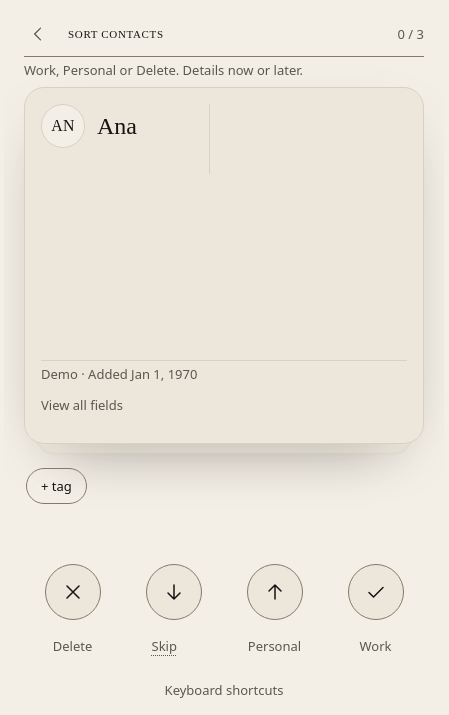
Test: DeckScreen › saves Work optimistically, advances the counter and restores the decision on undo
Expected: the text "0 / 3" is shown, [398,25,424,43]
Click the button named "Work": (376, 592) [348,564,404,620]
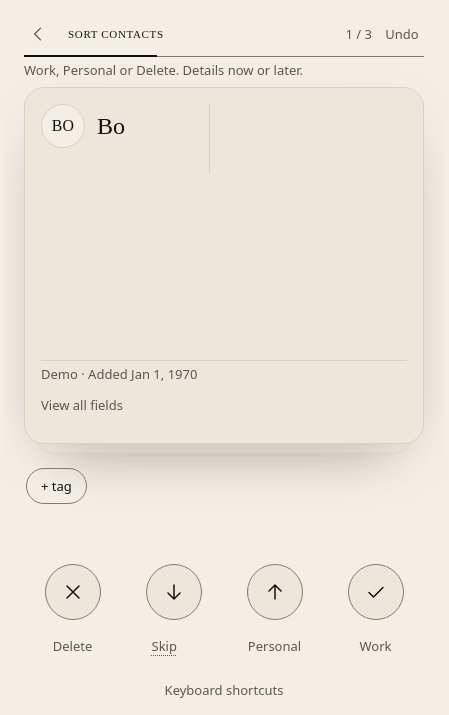
Result: the text "1 / 3" is shown at [346,25,372,43]
Result: the button "Undo" is shown
Result: the button "Undo" is enabled
Click the button "Undo": (402, 34) [380,12,424,56]
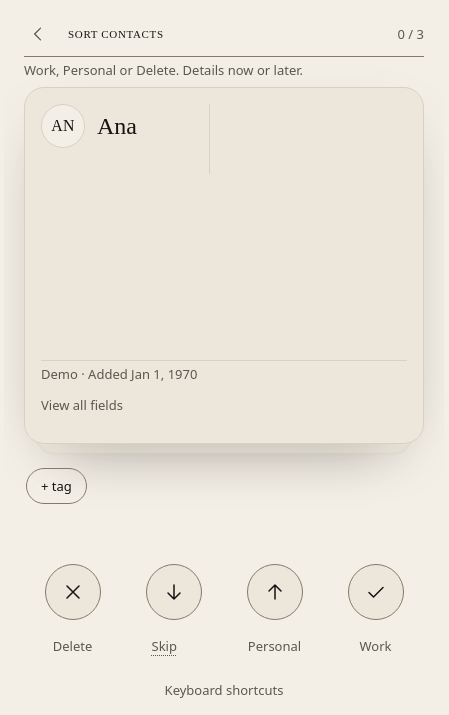
Result: the text "0 / 3" is shown at [398,25,424,43]
Result: the element named "Ana contact card" is shown at [24,87,424,444]
